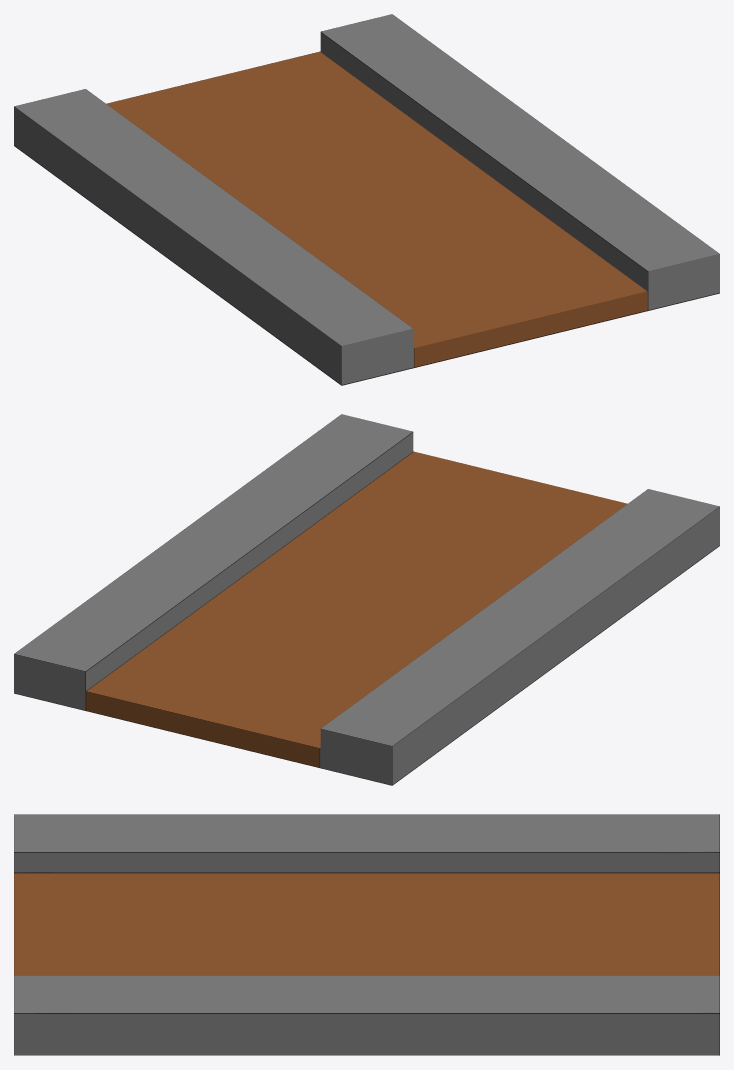
File: Bridge.fbx
3 views of the same model, one above another, from view 1: azimuth 30°, elevation 25°; view 2: azimuth 150°, elevation 25°; view 3: azimuth 270°, elevation 25° (orthographic). The views are drawn at different scales.
Visible parts, largest first — view 1: Cube.003; view 2: Cube.003; view 3: Cube.003.
Boxes of the visible parts, x1=… form: Cube.003: x1=14, y1=14, x2=719, y2=385; Cube.003: x1=14, y1=414, x2=719, y2=785; Cube.003: x1=14, y1=814, x2=719, y2=1055.
Bounding box in the file's own units: 200 × 20 × 300.
1 material, 1 textured.
